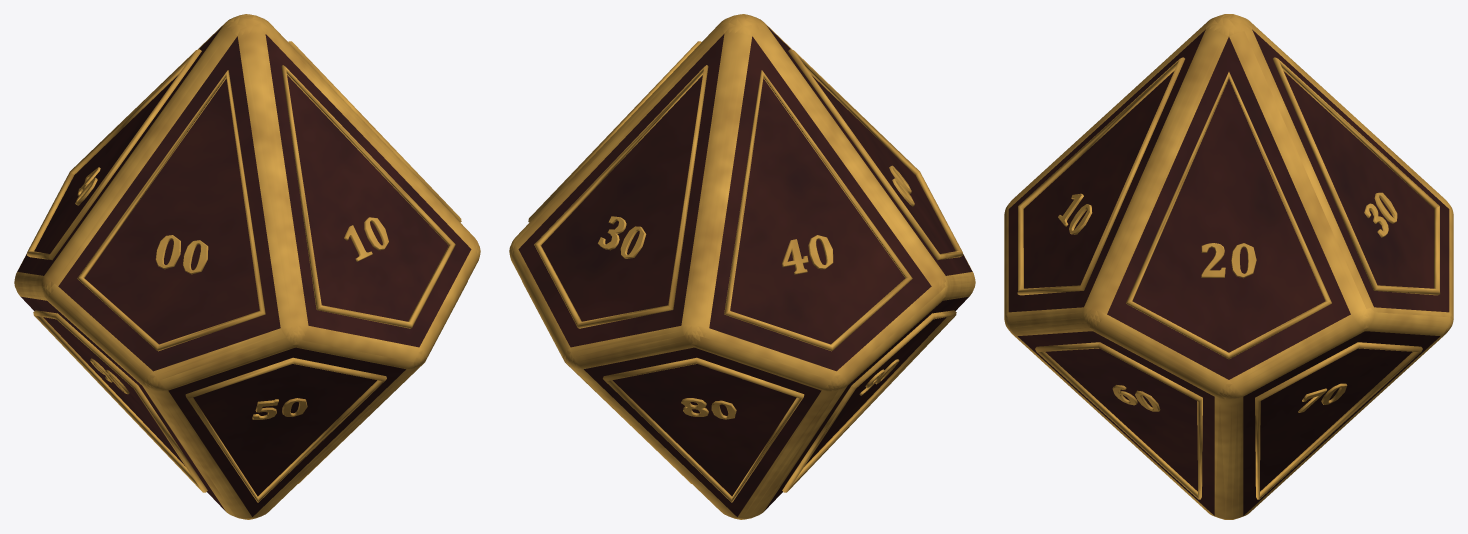
The model's file is D10_Percentile.gltf.
3 renders of one model, left to right at view 1: azimuth 30°, elevation 25°; view 2: azimuth 150°, elevation 25°; view 3: azimuth 270°, elevation 25°, orthographic.
Visible parts, largest first — view 1: D10; view 2: D10; view 3: D10.
Boxes of the visible parts, x1,y1,x2,y2 form: D10: [14, 14, 480, 519]; D10: [509, 14, 975, 519]; D10: [1004, 14, 1453, 519].
Bounding box in the file's own units: 0.842 × 0.9912 × 0.8051.
2 materials, 2 textured.
